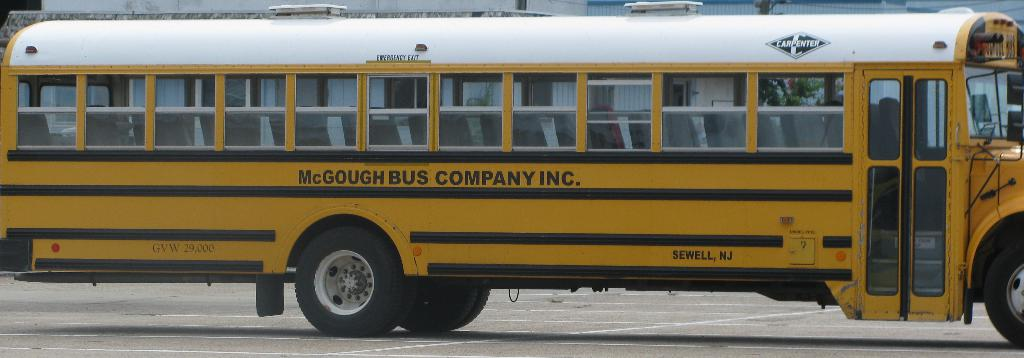Bus: (0, 0, 1023, 346)
